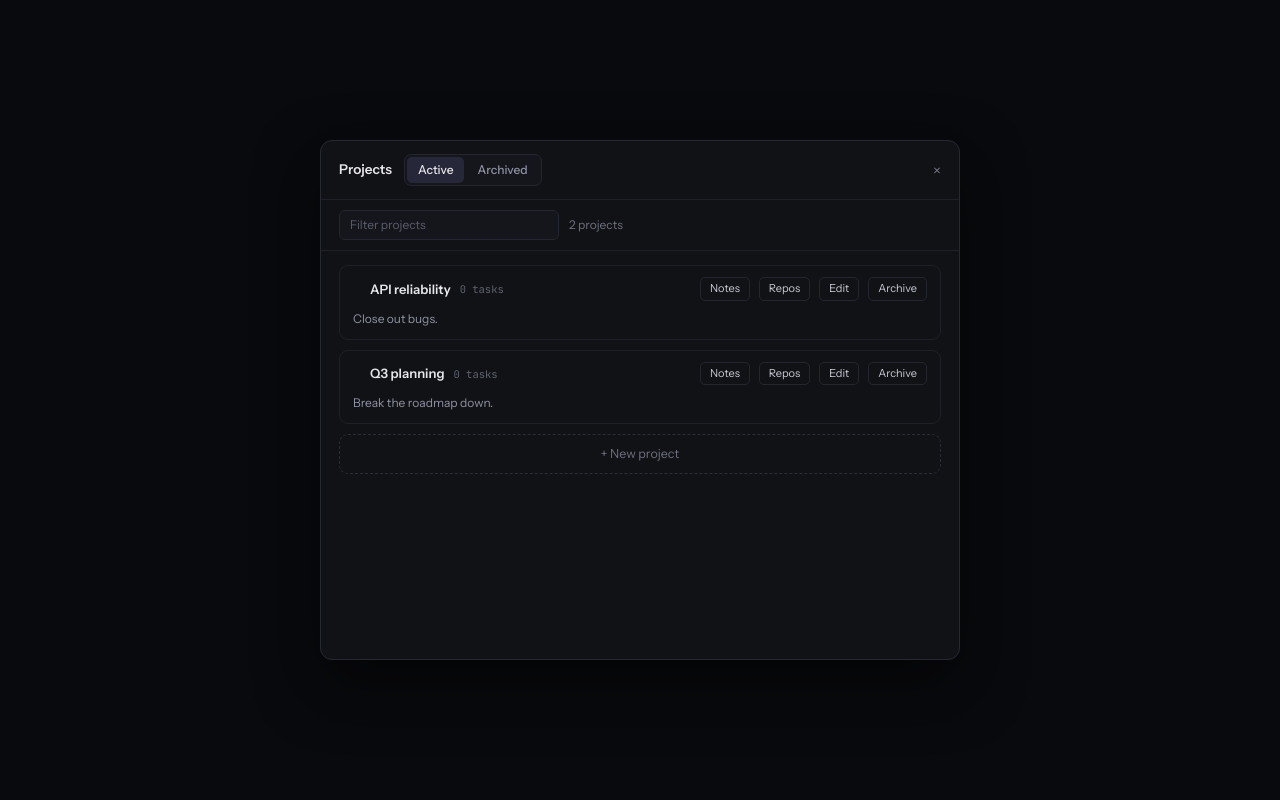
the project notes editor › reports a file it could not read rather than showing an empty one
Click the button "Notes" in the row of "API reliability" at {"x": 725, "y": 289}, box [700,277,750,301]
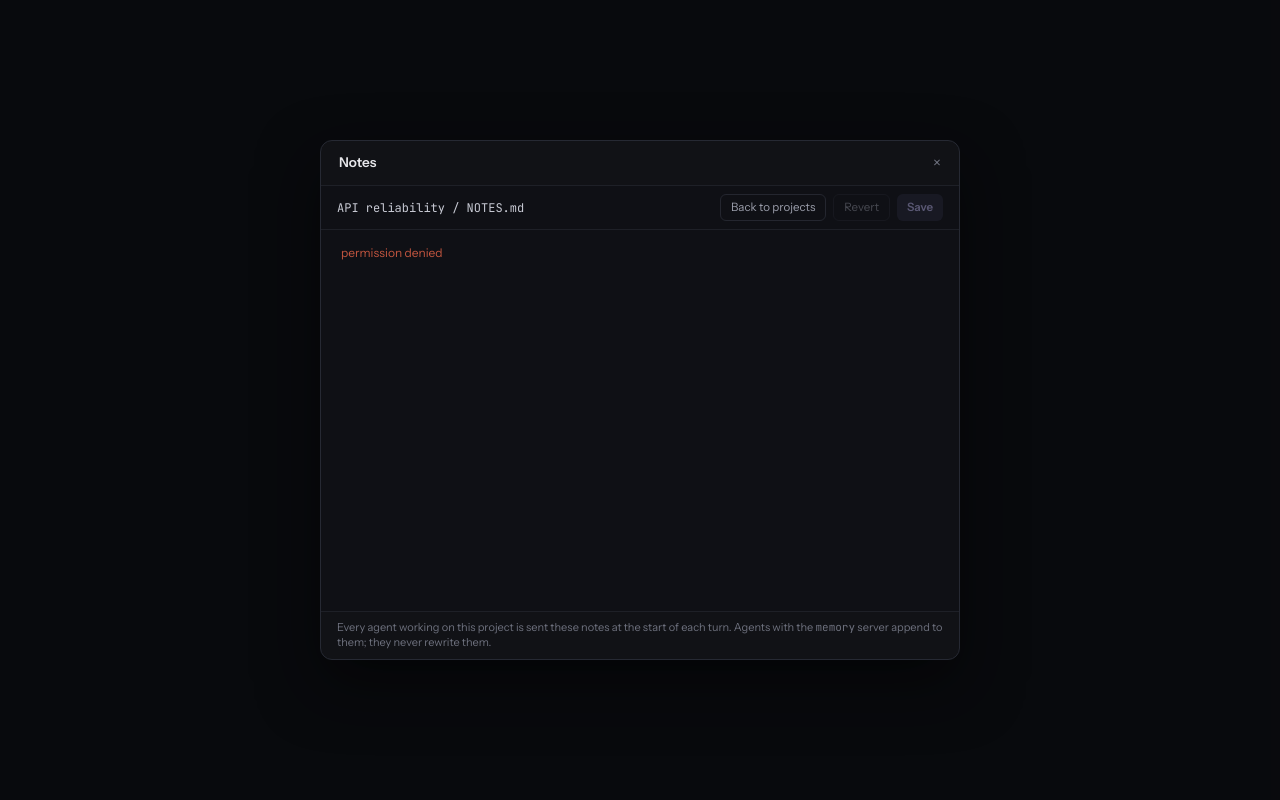
Expected: the text "permission denied" is shown, [341,245,443,260]
